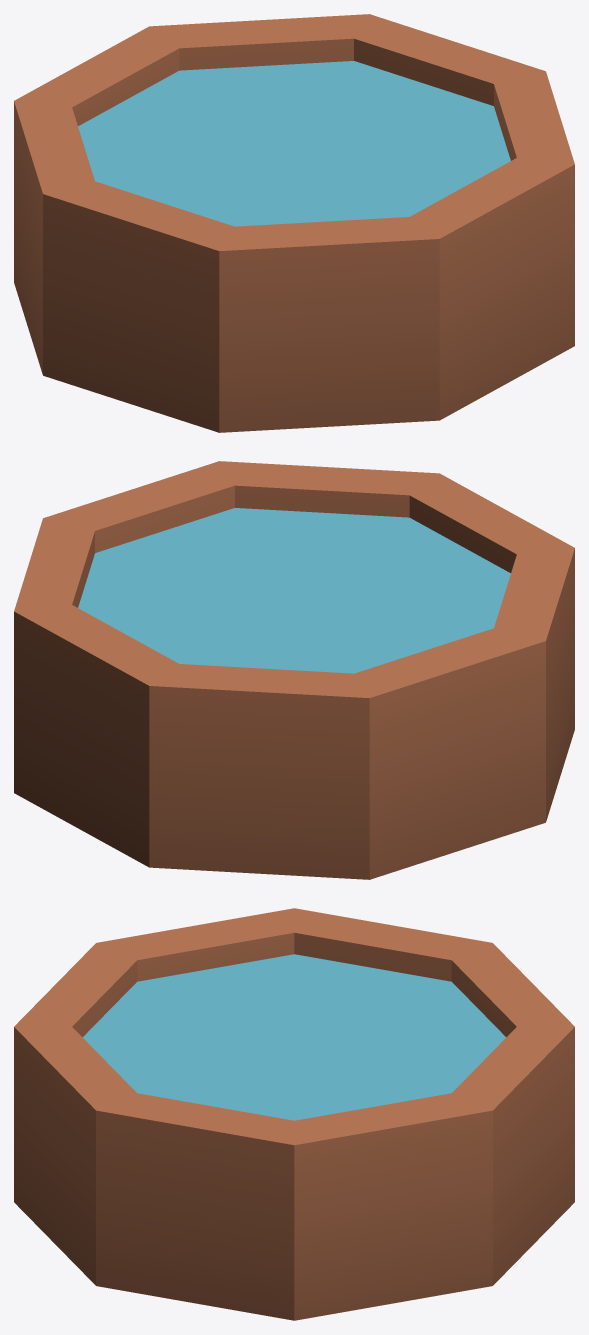
The model's file is small pool.fbx.
The picture shows the model from 3 angles, top to bottom: view 1: azimuth 30°, elevation 25°; view 2: azimuth 150°, elevation 25°; view 3: azimuth 270°, elevation 25°; orthographic projection. The views are drawn at different scales.
Parts seen in each view (by area): view 1: small_pool; view 2: small_pool; view 3: small_pool.
Part boxes in pixels (x1,y1,x2,y2): small_pool: (14,14,574,432); small_pool: (14,461,574,879); small_pool: (14,908,574,1320).
Size of the model in its own units: 278 by 95.89 by 278.
1 material, 1 textured.
